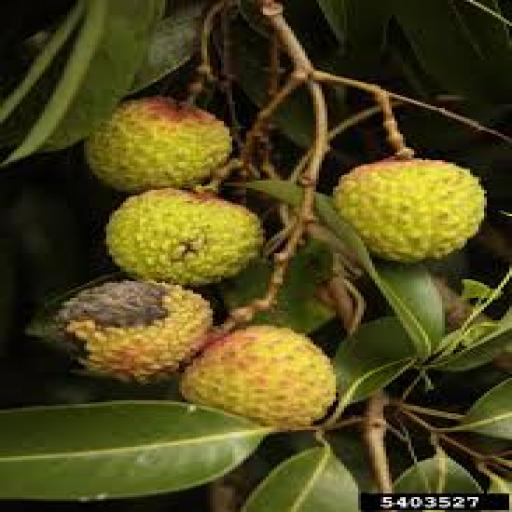lychee: (333, 159, 486, 262), (56, 282, 212, 383), (182, 326, 335, 428), (107, 189, 262, 284), (84, 97, 232, 191)
